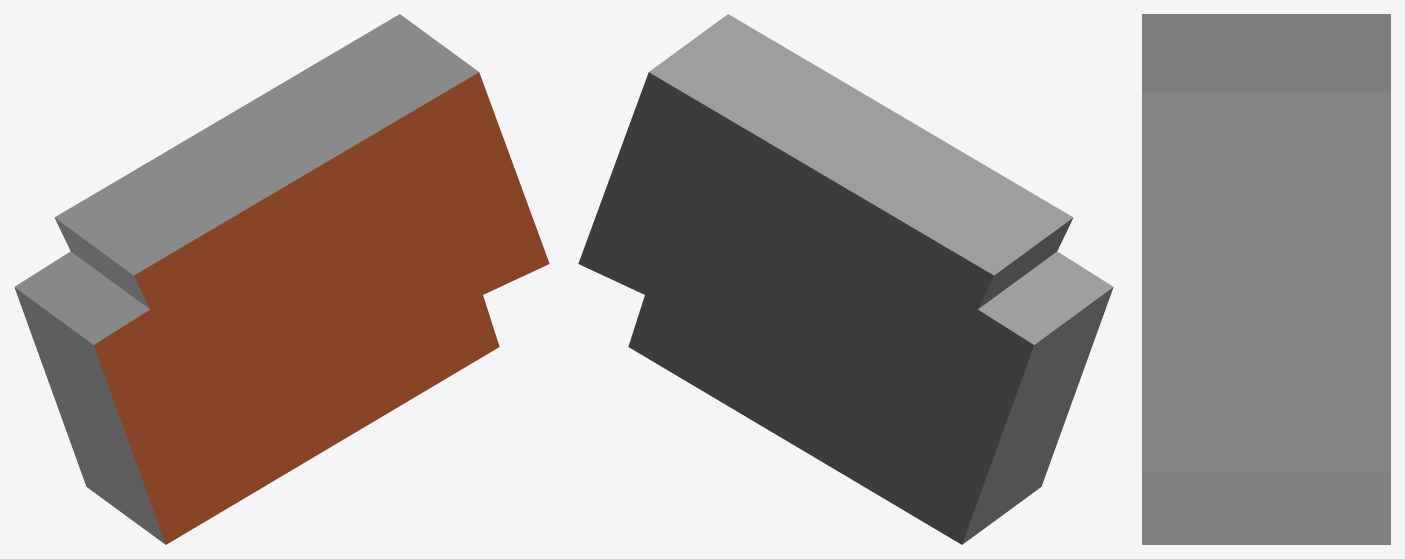
The model's file is construction_2682_assumed_A_Casa_h6m.obj.
3 views of the same model, side by side, from view 1: azimuth 30°, elevation 25°; view 2: azimuth 150°, elevation 25°; view 3: azimuth 270°, elevation 25° (orthographic). The views are drawn at different scales.
Parts seen in each view (by area): view 1: construction_2682_assumed_A_Casa; view 2: construction_2682_assumed_A_Casa; view 3: construction_2682_assumed_A_Casa.
Part boxes in pixels (x1=…): construction_2682_assumed_A_Casa: x1=14, y1=14, x2=549, y2=544; construction_2682_assumed_A_Casa: x1=578, y1=14, x2=1113, y2=544; construction_2682_assumed_A_Casa: x1=1142, y1=14, x2=1390, y2=544.
Size of the model in its own units: 19.88 by 16.51 by 6.
